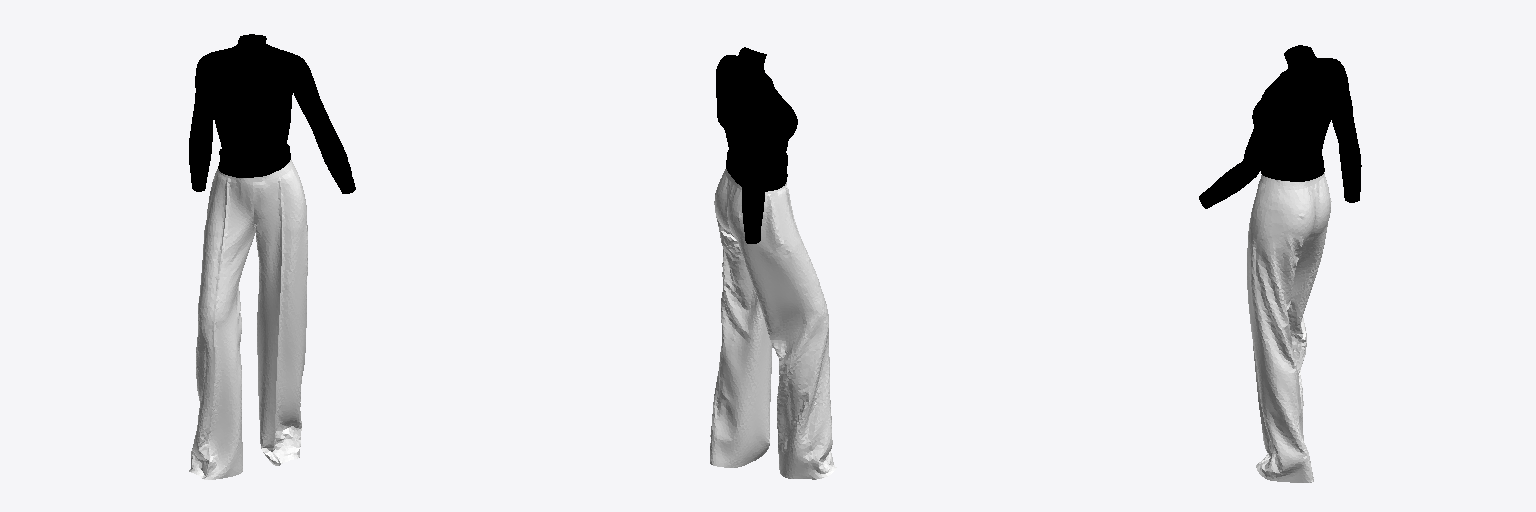
Rendered from DA_HighNeck+WidePants_0000079.obj.
3 views of the same model, side by side, from view 1: azimuth 30°, elevation 25°; view 2: azimuth 150°, elevation 25°; view 3: azimuth 270°, elevation 25° (orthographic).
Size of the model in its own units: 0.5345 by 1.63 by 0.5763.